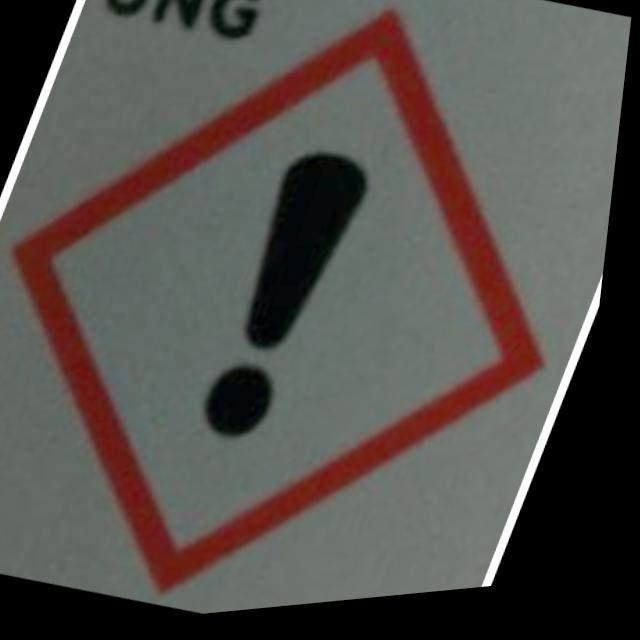health-ozone layer hazard: (191, 144, 386, 461)
